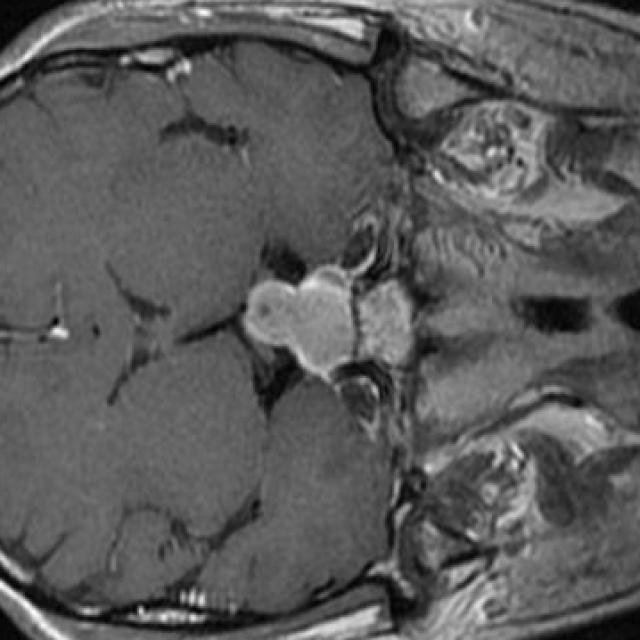pituitary: (241, 266, 355, 369)
